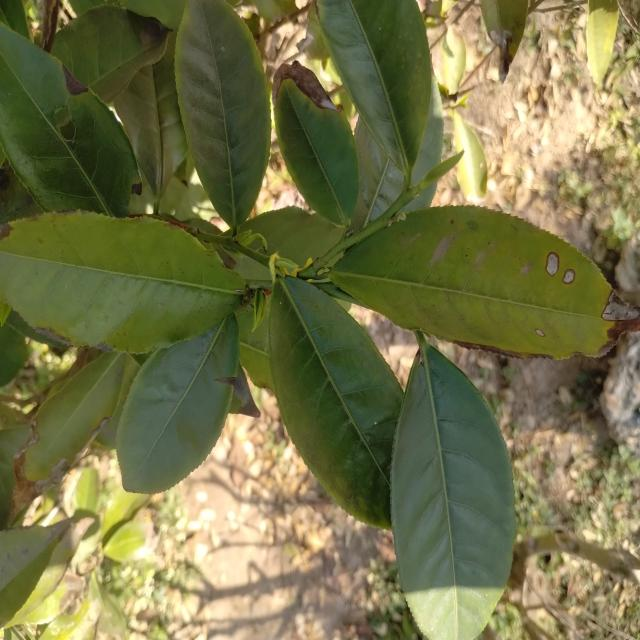Leaf: (328, 206, 640, 359), (391, 338, 515, 640), (0, 213, 246, 353), (269, 277, 403, 528), (0, 24, 141, 217), (116, 315, 242, 493), (175, 0, 271, 231), (317, 0, 432, 179), (272, 61, 358, 227), (23, 352, 130, 483), (114, 33, 188, 205), (52, 5, 170, 102), (0, 519, 73, 628), (352, 118, 404, 230), (480, 0, 528, 82), (11, 574, 82, 625), (412, 77, 444, 182), (452, 109, 487, 202), (586, 0, 619, 84), (104, 521, 152, 562), (72, 467, 99, 520), (404, 183, 436, 211), (87, 521, 99, 537)
